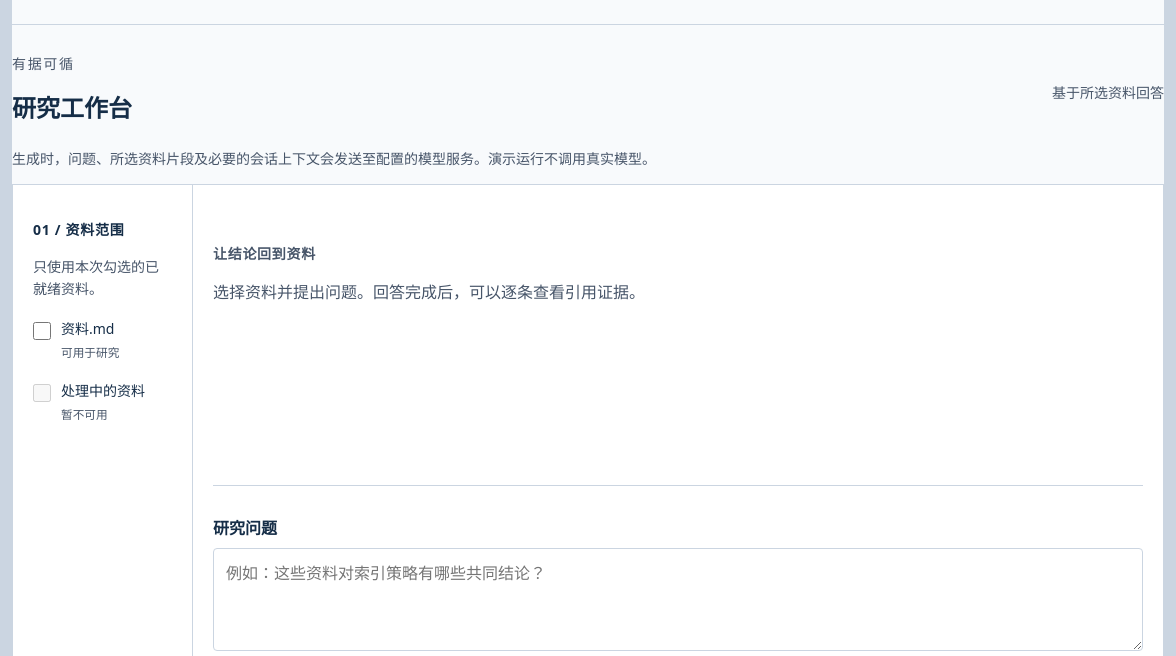
failed run remains failed without automatic model retry
The width and height of the screenshot is (1176, 656).
Click the checkbox labelled "资料.md" at (42, 331), box [33,322,51,340]
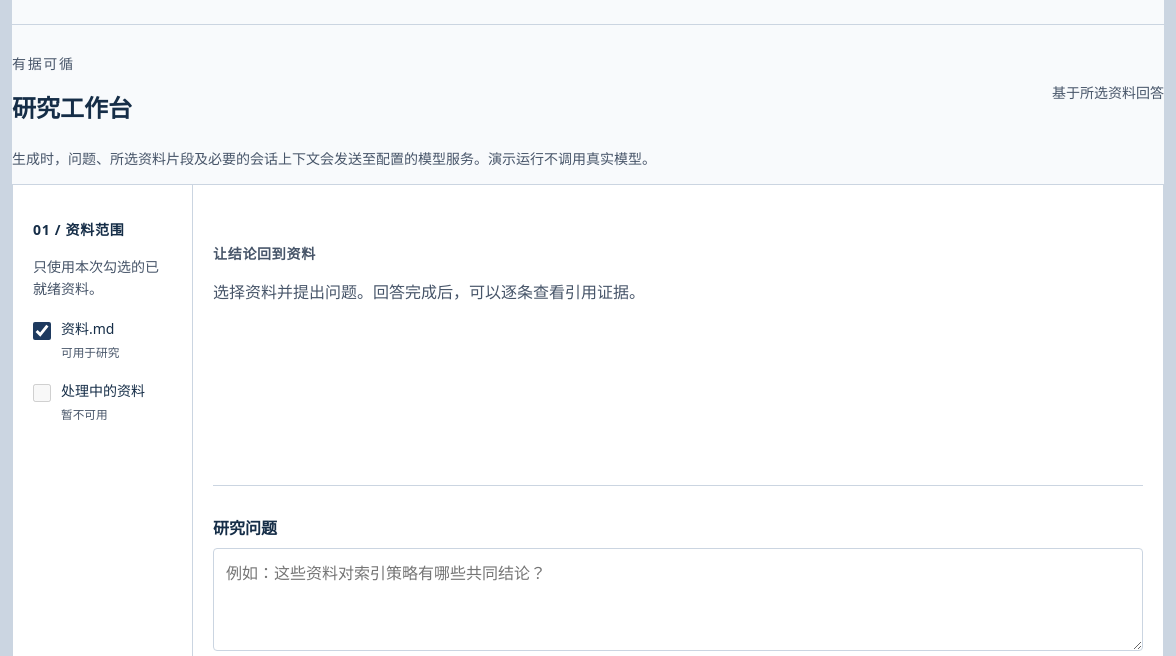
Type "问题" into the text box labelled "研究问题" at (678, 599), box [213,548,1143,651]
(page scrolled)
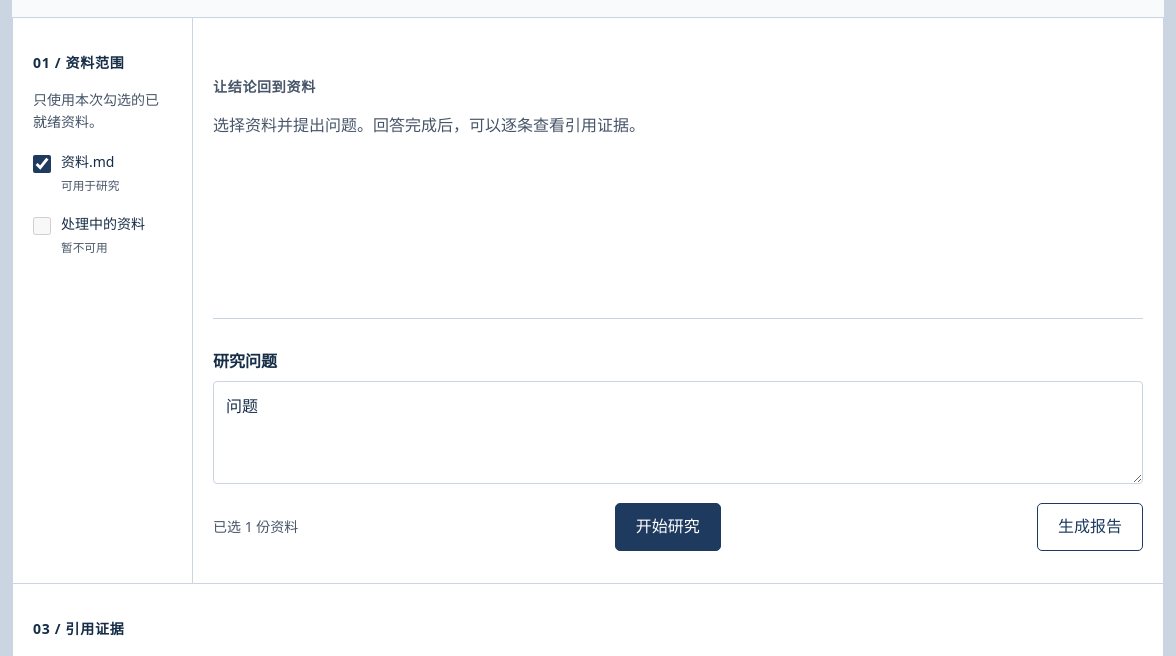
Click the button "开始研究" at (668, 527), box [615,503,721,551]
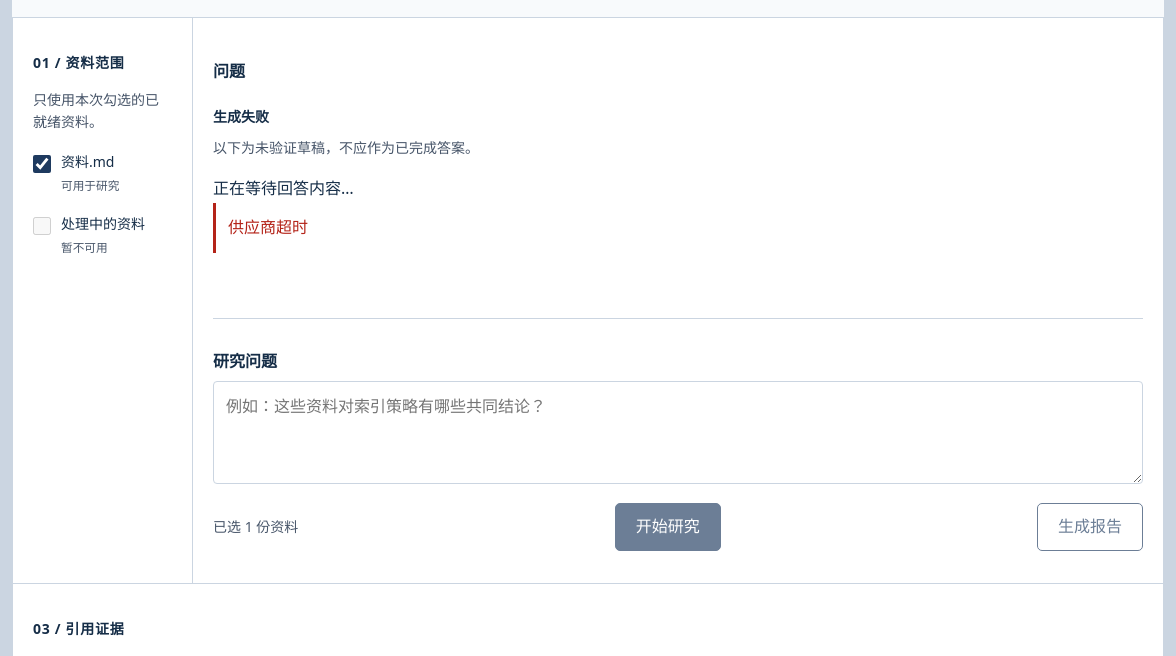
Now the text "供应商超时" is shown, box [213,204,1143,253]
